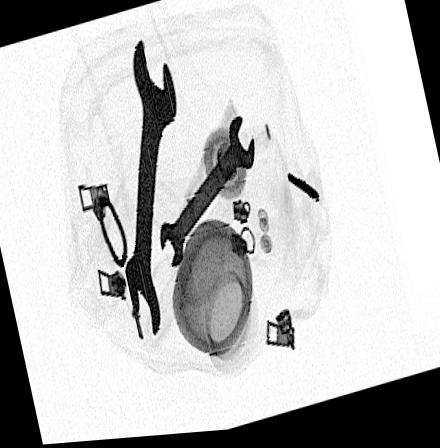Wrench: (125, 45, 177, 339), (158, 113, 254, 272)
